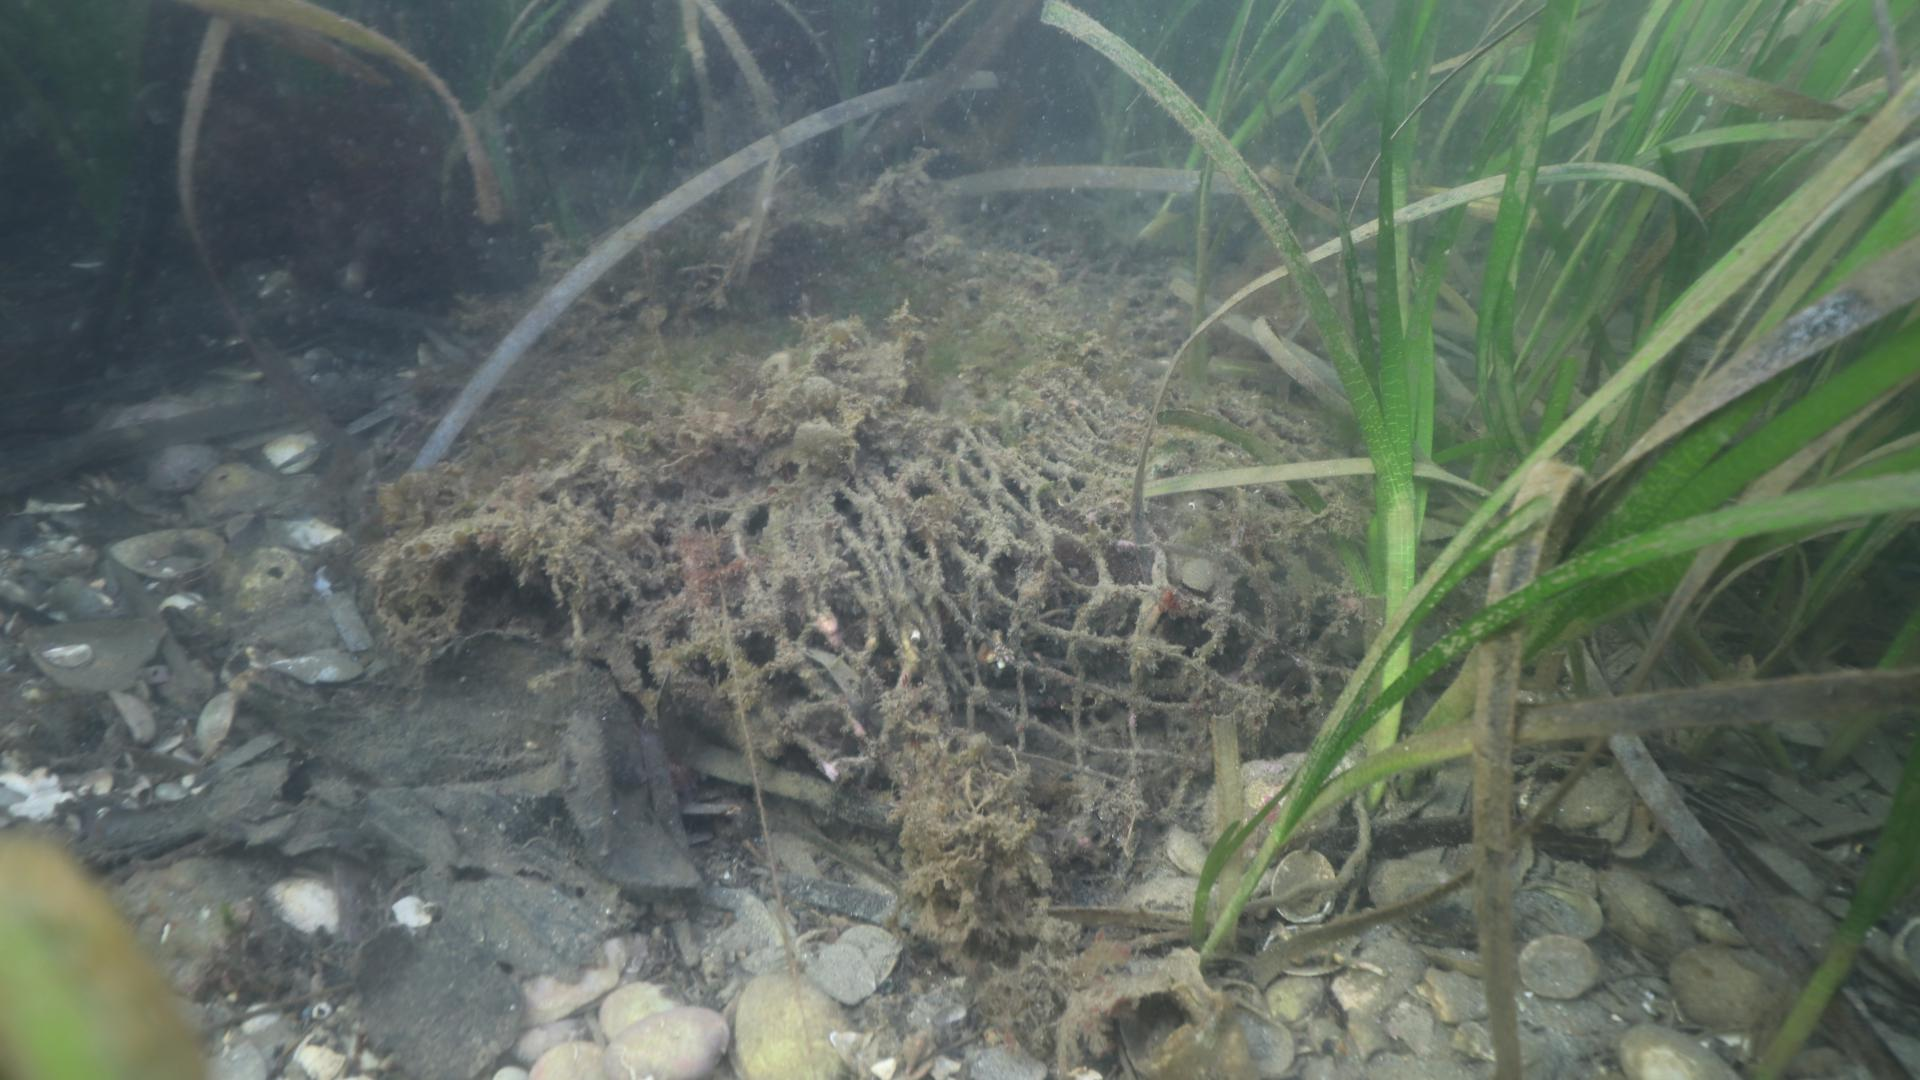fish net: (599, 402, 1342, 814)
